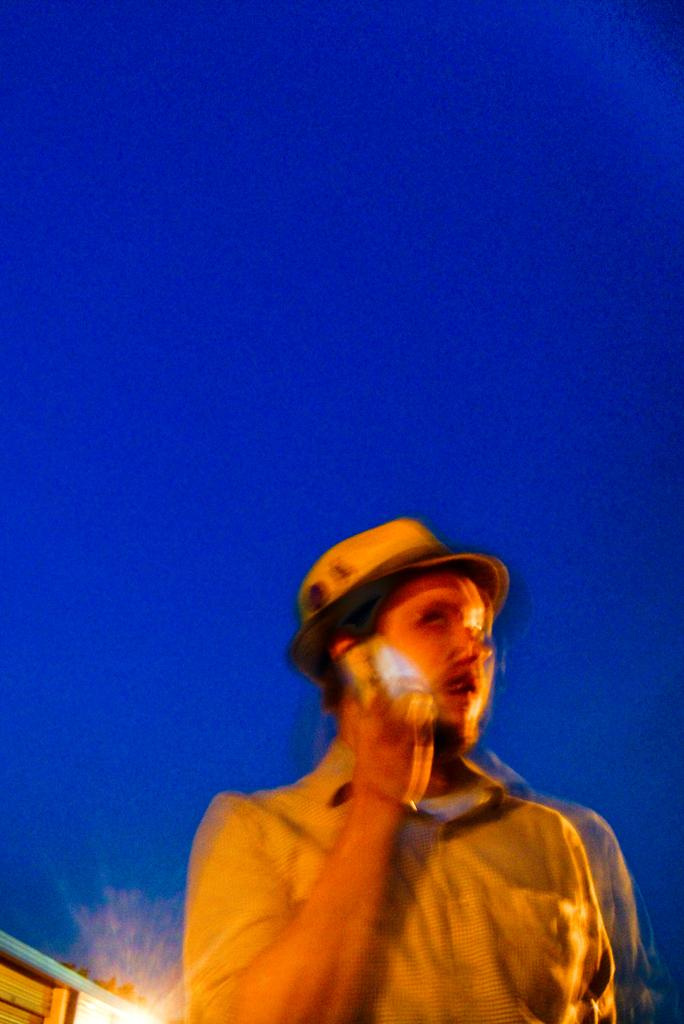Hat: (288, 514, 520, 693)
